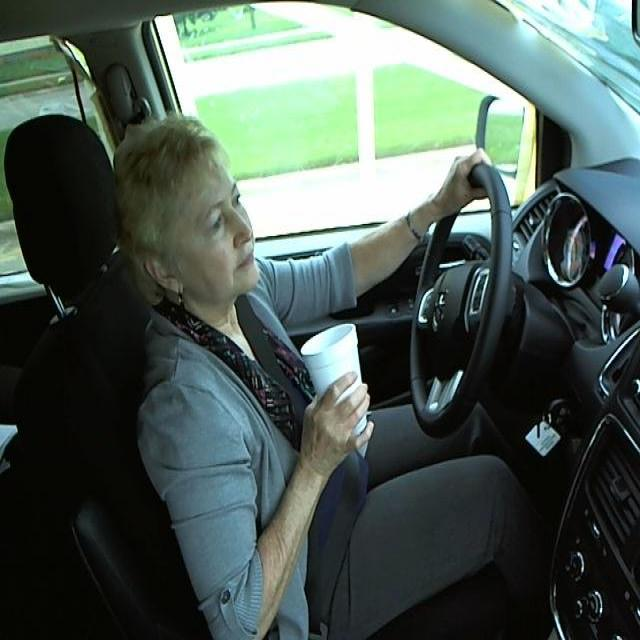drinking: (301, 320, 369, 443)
